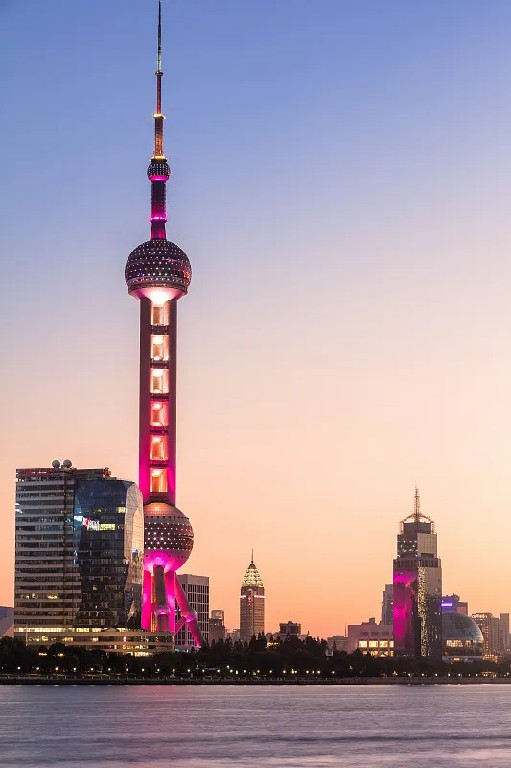Oriental: (125, 1, 205, 647)
